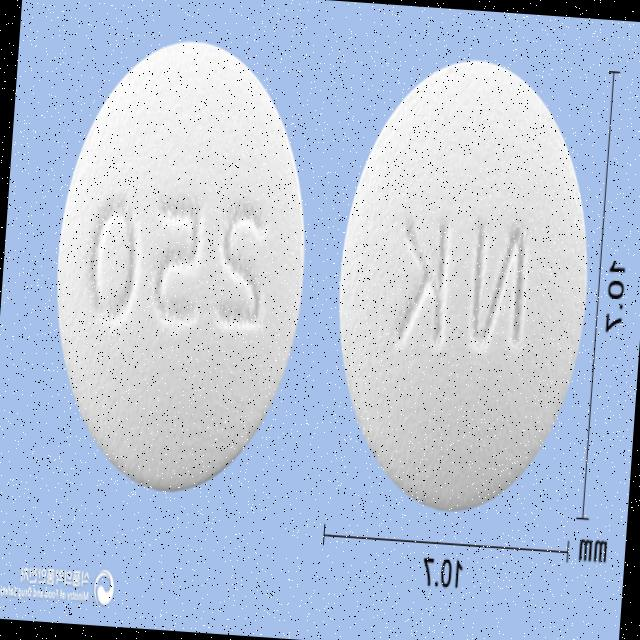Ciproc: (35, 23, 322, 509), (318, 48, 604, 526)
